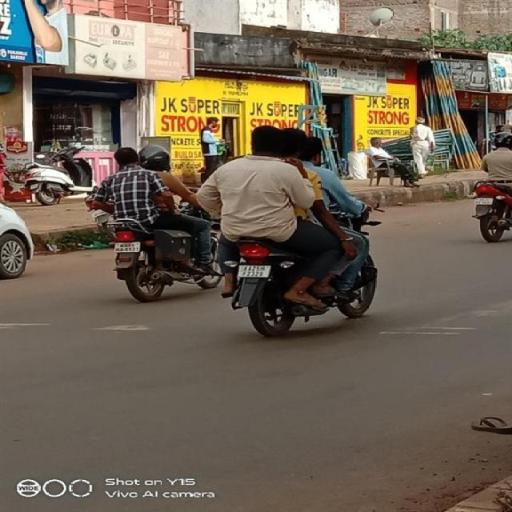tripple riding: (192, 122, 348, 236)
